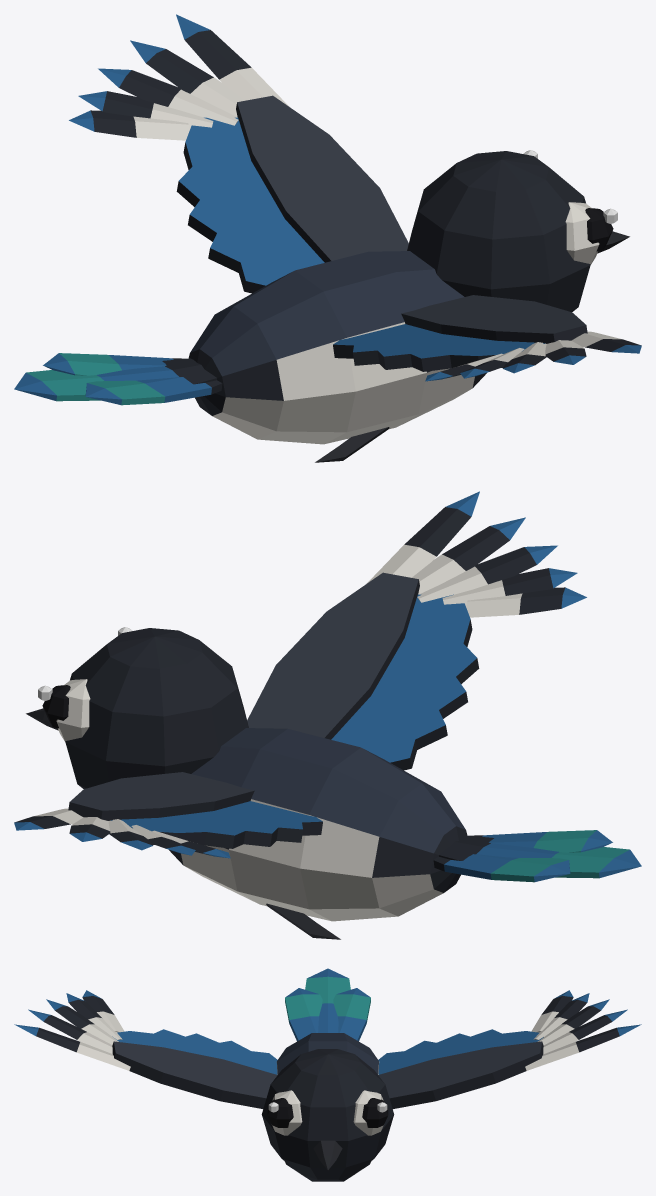
File: magpie.glb
The picture shows the model from 3 angles, top to bottom: view 1: azimuth 30°, elevation 25°; view 2: azimuth 150°, elevation 25°; view 3: azimuth 270°, elevation 25°; orthographic projection. The views are drawn at different scales.
Visible parts, largest first — view 1: body, wing_l, wing_r, tail; view 2: body, wing_r, wing_l, tail; view 3: body, wing_l, wing_r, tail.
Part boxes in pixels (left/top/right/bottom): body: left=188, top=150, right=629, bottom=462; wing_l: left=69, top=14, right=408, bottom=293; wing_r: left=333, top=295, right=641, bottom=381; tail: left=14, top=353, right=222, bottom=405; body: left=26, top=627, right=467, bottom=939; wing_r: left=247, top=491, right=586, bottom=770; wing_l: left=14, top=772, right=322, bottom=858; tail: left=433, top=830, right=641, bottom=882; body: left=261, top=1033, right=394, bottom=1181; wing_l: left=378, top=990, right=641, bottom=1108; wing_r: left=14, top=990, right=277, bottom=1108; tail: left=285, top=968, right=370, bottom=1041.
Size of the model in its own units: 0.4656 by 0.1768 by 0.6066.
